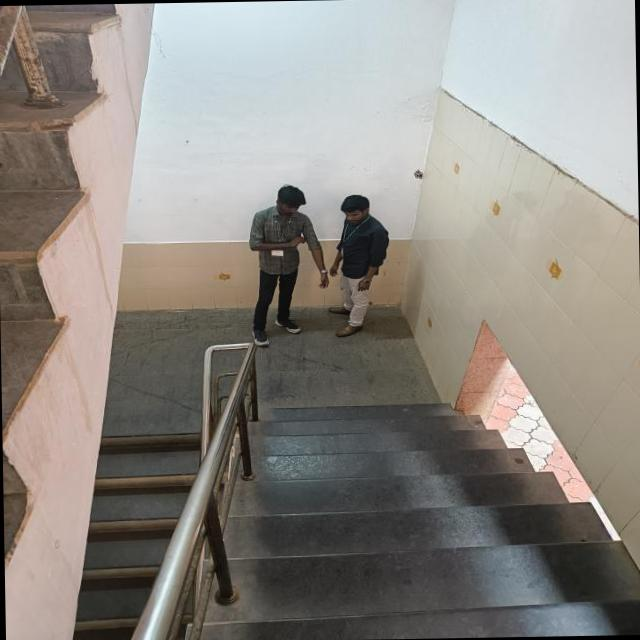id_card: (337, 214, 366, 254), (266, 215, 290, 256)
